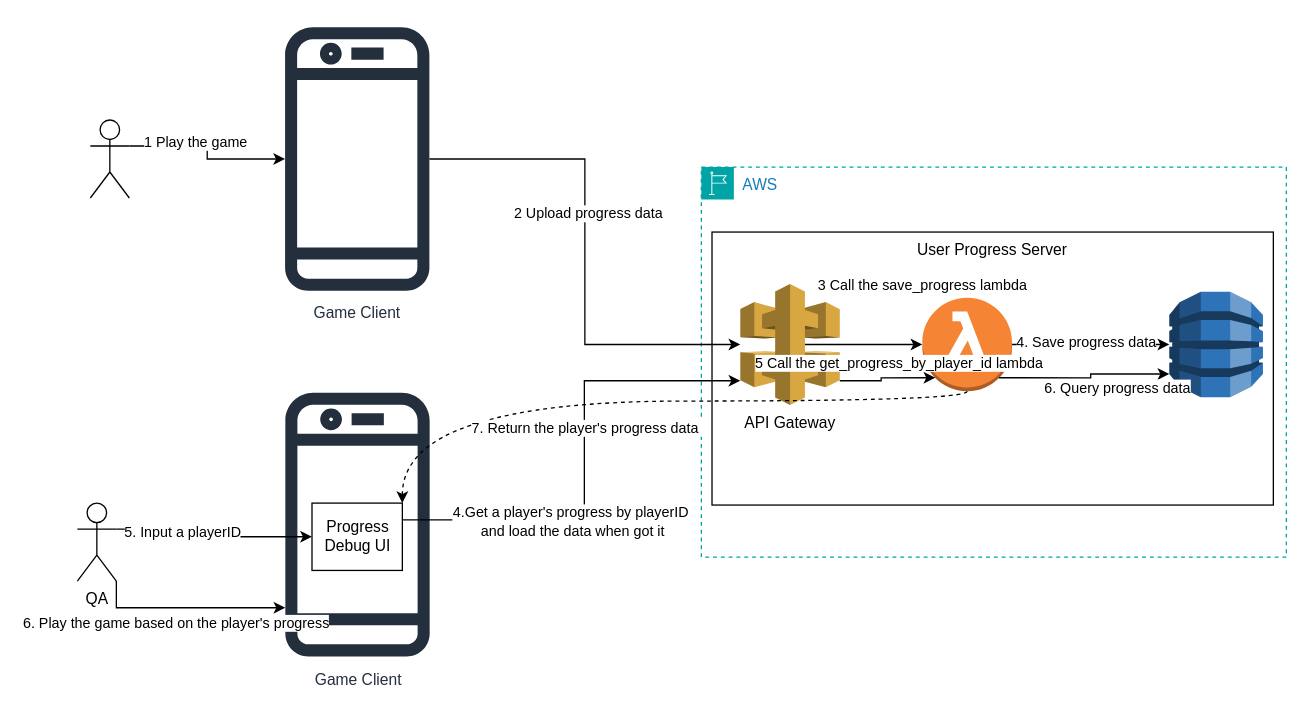
Image size: 1309x712. Some labels were removed from this diagram. Each missing label, with the centre of its shape:
"Lambda save_progress, get_progress_by_player_id" goes at point 966,343.
"Player" goes at point 109,158.
"Tables: user_progress" goes at point 1215,344.
